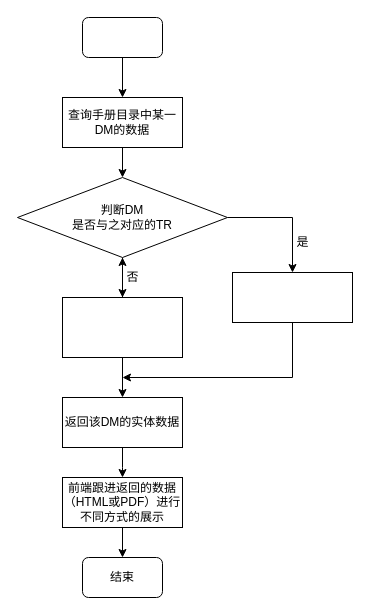
This 370x615 diagram has some shape labels left out. The box of each missing label's shape, as (x1, y1, x2, y2) in pixels:
开始: (82, 16, 162, 58)
根据TR中的PDF或者HTML，建立该DM与实体展示文件的联系: (232, 272, 352, 322)
根据目录中DMC的标识建立DMC标识与之对应的实体HTML文件的联系: (62, 296, 182, 358)
